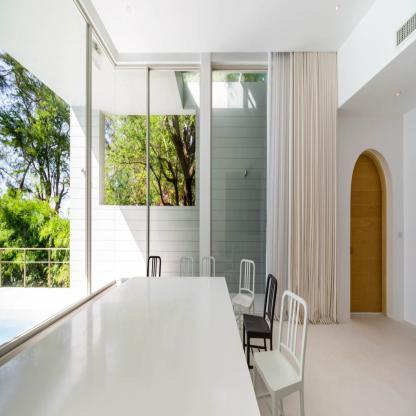chair: (249, 289, 329, 416), (242, 269, 297, 370), (221, 254, 272, 322), (133, 248, 166, 279), (198, 255, 220, 281), (175, 259, 192, 278)
table: (0, 266, 246, 415), (350, 149, 386, 317)
